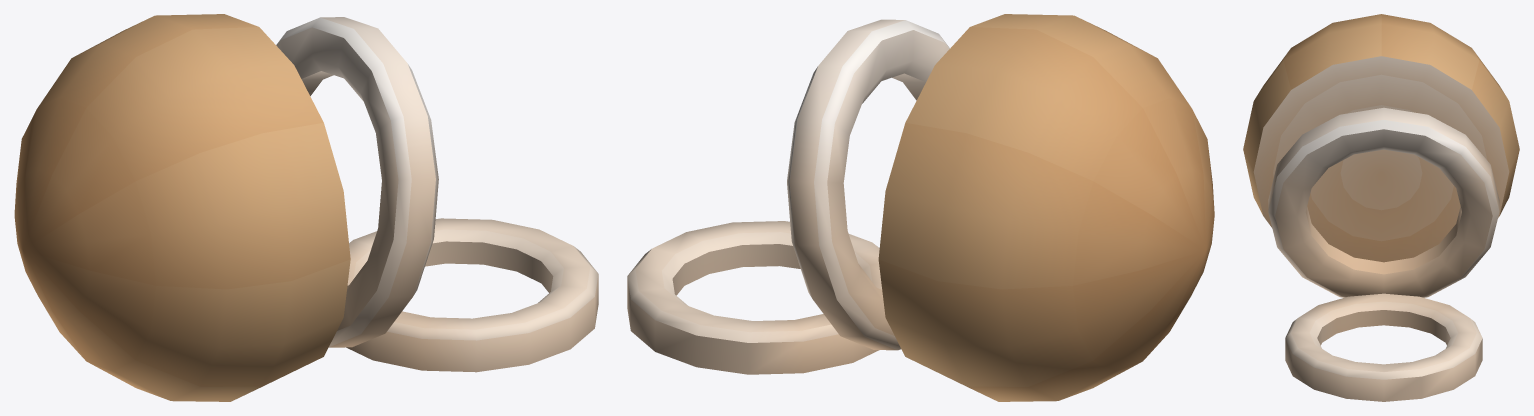
Rendered from kay-food_ingredient_onion_chopped.glb.
The picture shows the model from 3 angles, left to right: view 1: azimuth 30°, elevation 25°; view 2: azimuth 150°, elevation 25°; view 3: azimuth 270°, elevation 25°; orthographic projection. The views are drawn at different scales.
Visible parts, largest first — view 1: food_ingredient_onion_chopped; view 2: food_ingredient_onion_chopped; view 3: food_ingredient_onion_chopped.
Part boxes in pixels (x1,y1,x2,y2): food_ingredient_onion_chopped: [14, 14, 598, 401]; food_ingredient_onion_chopped: [627, 14, 1214, 401]; food_ingredient_onion_chopped: [1243, 14, 1519, 401].
Bounding box in the file's own units: 0.22 × 0.1347 × 0.1347.
1 material, 1 textured.
